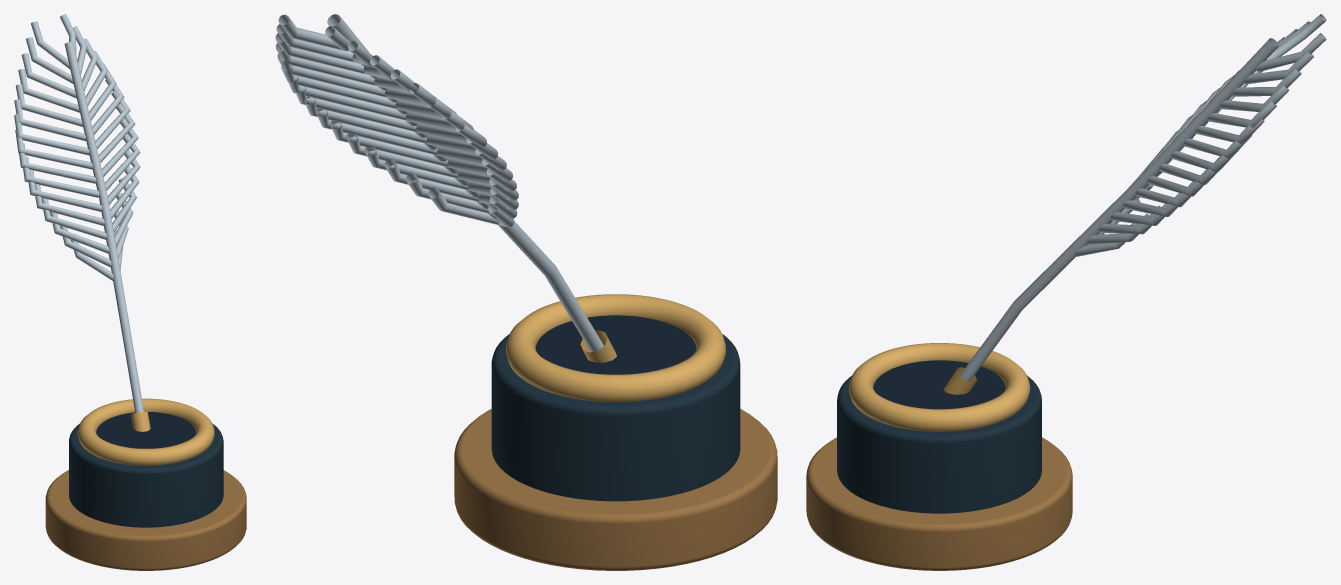
File: collection-quill-v1.glb
3 renders of one model, left to right at view 1: azimuth 30°, elevation 25°; view 2: azimuth 150°, elevation 25°; view 3: azimuth 270°, elevation 25°, orthographic. The views are drawn at different scales.
Parts seen in each view (by area): view 1: InkFoot, InkWell, InkLip, QuillShaft, InkSurface, FeatherBarb.018, FeatherBarb.016, FeatherBarb.014, FeatherBarb.012, FeatherBarb.020, FeatherBarb.010, FeatherBarb.022 (+21 smaller); view 2: InkFoot, InkWell, InkLip, InkSurface, QuillShaft, FeatherBarb.017, FeatherBarb.015, FeatherBarb.013, FeatherBarb.019, FeatherBarb.021, FeatherBarb.011, FeatherBarb.023 (+17 smaller); view 3: InkFoot, InkWell, InkLip, QuillShaft, InkSurface, FeatherBarb.031, FeatherBarb.023, FeatherBarb.029.
Part boxes in pixels (box(x1,y1,x2,y2)): InkFoot: box(45, 470, 246, 570); InkWell: box(69, 423, 223, 527); InkLip: box(77, 398, 214, 465); QuillShaft: box(64, 42, 143, 412); InkSurface: box(96, 412, 196, 448); FeatherBarb.018: box(14, 114, 89, 155); FeatherBarb.016: box(15, 129, 92, 169); FeatherBarb.014: box(19, 143, 96, 183); FeatherBarb.012: box(23, 156, 99, 197); FeatherBarb.020: box(14, 99, 85, 141); FeatherBarb.010: box(28, 170, 102, 211); FeatherBarb.022: box(15, 84, 82, 126); InkFoot: box(454, 409, 777, 570); InkWell: box(491, 334, 740, 501); InkLip: box(506, 294, 726, 402); InkSurface: box(535, 315, 696, 374); QuillShaft: box(327, 14, 603, 352); FeatherBarb.017: box(295, 86, 417, 132); FeatherBarb.015: box(304, 96, 427, 143); FeatherBarb.013: box(316, 108, 438, 155); FeatherBarb.019: box(287, 76, 407, 120); FeatherBarb.021: box(281, 66, 396, 109); FeatherBarb.011: box(330, 120, 448, 167); FeatherBarb.023: box(277, 51, 386, 97); InkFoot: box(806, 437, 1072, 570); InkWell: box(837, 375, 1041, 513); InkLip: box(848, 343, 1030, 431); QuillShaft: box(959, 38, 1278, 381); InkSurface: box(873, 360, 1005, 409); FeatherBarb.031: box(1256, 33, 1326, 71); FeatherBarb.023: box(1208, 101, 1276, 127); FeatherBarb.029: box(1243, 50, 1313, 84).
Bounding box in the file's own units: 0.806 × 1.69 × 1.52.
